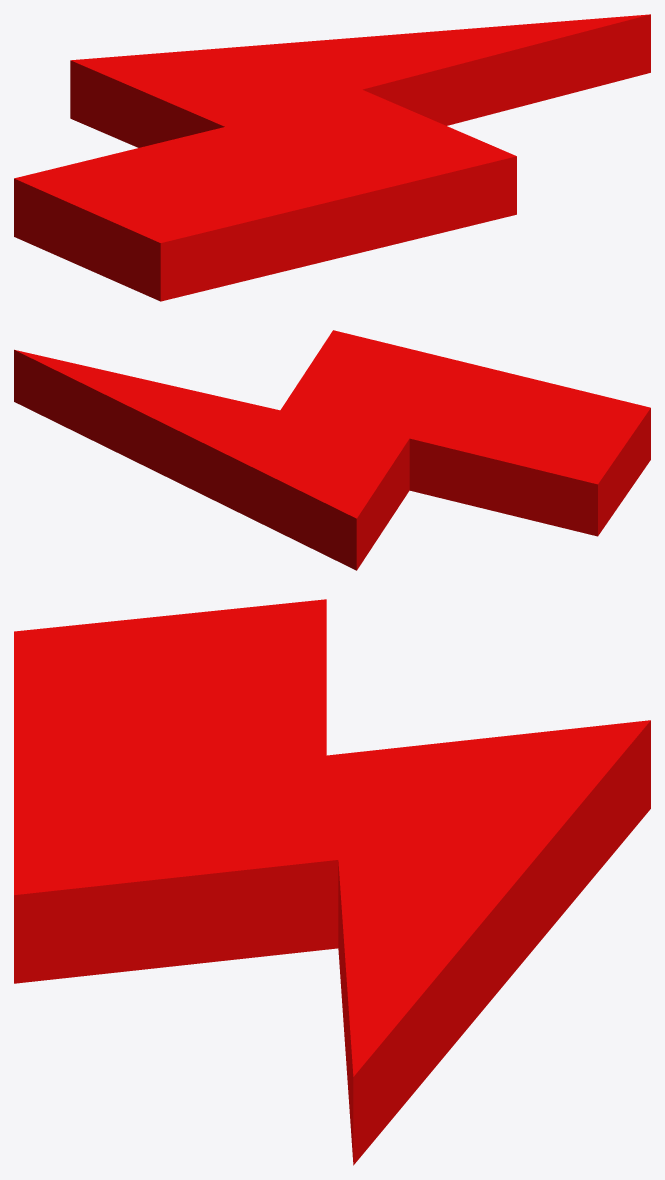
Rendered from bolt.fbx.
3 views of the same model, one above another, from view 1: azimuth 30°, elevation 25°; view 2: azimuth 150°, elevation 25°; view 3: azimuth 270°, elevation 25° (orthographic). The views are drawn at different scales.
Parts seen in each view (by area): view 1: Plane; view 2: Plane; view 3: Plane.
Part boxes in pixels (box(x1,y1,x2,y2)): Plane: box(14, 14, 650, 301); Plane: box(14, 330, 650, 570); Plane: box(14, 599, 650, 1165).
Size of the model in its own units: 289 by 25 by 163.
